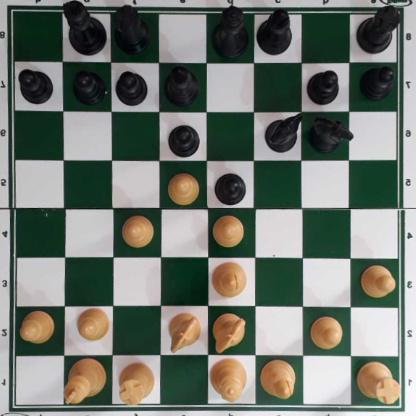black-bishop: (258, 7, 294, 52), (165, 63, 198, 106)
black-king: (63, 1, 107, 57)
black-knight: (310, 114, 350, 152), (265, 112, 304, 150)
black-pawn: (18, 67, 54, 105), (360, 63, 396, 98), (168, 122, 202, 156), (215, 170, 248, 205), (73, 67, 105, 102), (118, 69, 149, 105), (310, 67, 340, 104)
black-queen: (211, 4, 251, 55)
black-rook: (356, 3, 403, 55), (115, 4, 152, 59)
white-bishop: (262, 358, 298, 400), (213, 258, 248, 295)
white-king: (64, 357, 108, 405)
white-knight: (169, 312, 203, 351), (213, 314, 247, 352)
white-pawn: (311, 314, 346, 349), (361, 264, 398, 297), (78, 306, 111, 342), (21, 309, 56, 342), (168, 170, 202, 202), (214, 212, 246, 246), (123, 214, 156, 246)
white-queen: (213, 354, 248, 404)
white-rook: (357, 359, 403, 402), (119, 362, 155, 405)
